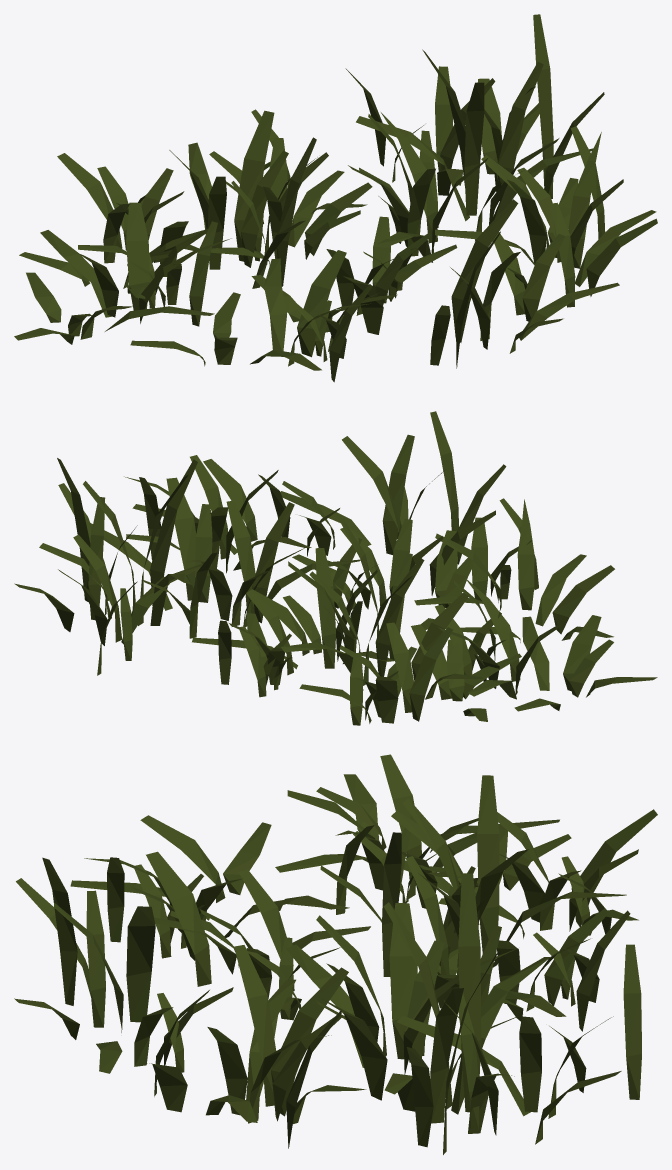
File: SM_Grass_Medium_C.fbx
3 views of the same model, one above another, from view 1: azimuth 30°, elevation 25°; view 2: azimuth 150°, elevation 25°; view 3: azimuth 270°, elevation 25° (orthographic). The views are drawn at different scales.
Parts seen in each view (by area): view 1: grass-medium-c; view 2: grass-medium-c; view 3: grass-medium-c.
Boxes of the visible parts, left/top/right/bottom form: grass-medium-c: left=14, top=14, right=657, bottom=382; grass-medium-c: left=14, top=411, right=657, bottom=725; grass-medium-c: left=14, top=754, right=657, bottom=1154.
Size of the model in its own units: 1.89 by 0.5151 by 1.39.
